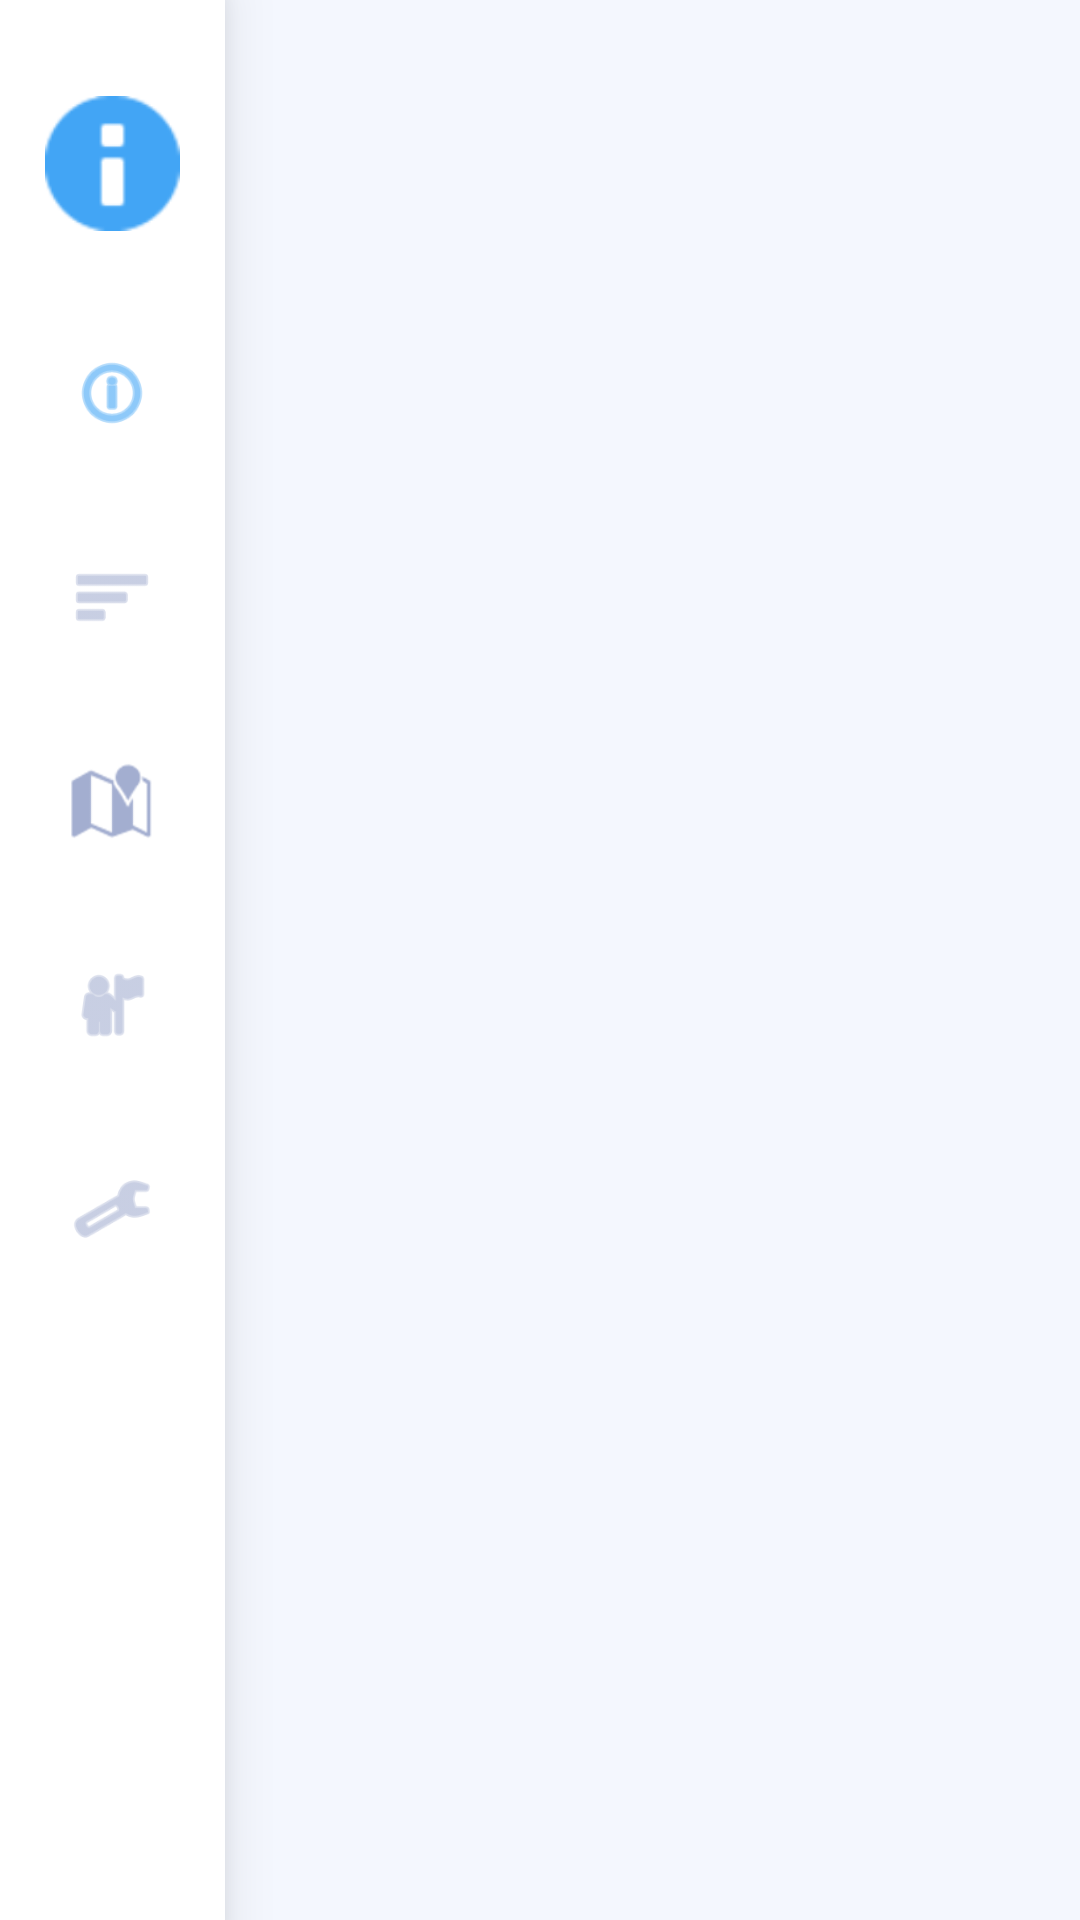

Named icons in this screenshot (1080 x 1920) and their centers, (x,y):
info: (112,163)
info details: (112,393)
map: (111,800)
myplaces: (113,1005)
preferences: (111,1209)
sort by size: (112,597)
